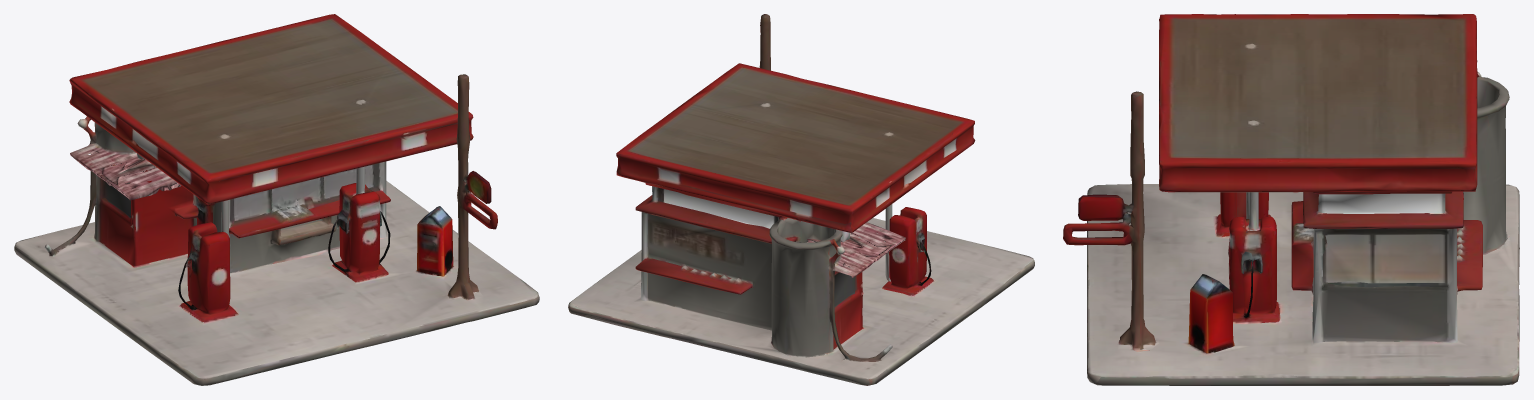
File: gas_station.glb
3 renders of one model, left to right at view 1: azimuth 30°, elevation 25°; view 2: azimuth 150°, elevation 25°; view 3: azimuth 270°, elevation 25°, orthographic. The views are drawn at different scales.
Bounding box in the file's own units: 1 × 0.6288 × 0.9987.
1 material, 1 textured.
